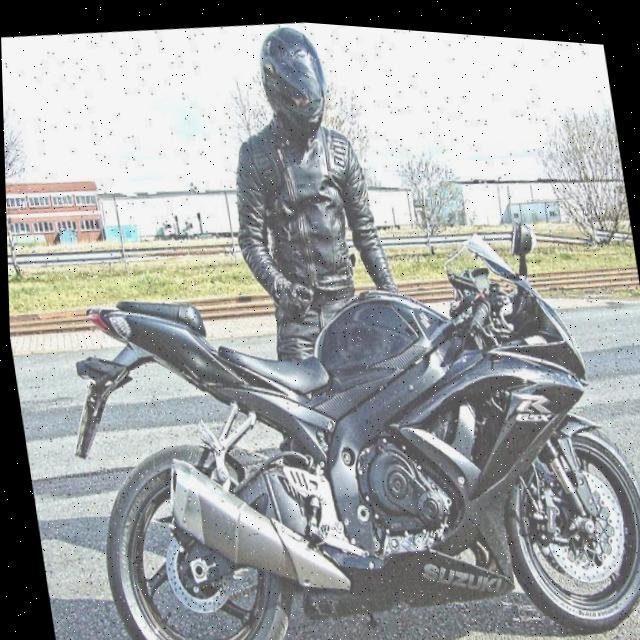motorcycle: (39, 172, 640, 640)
